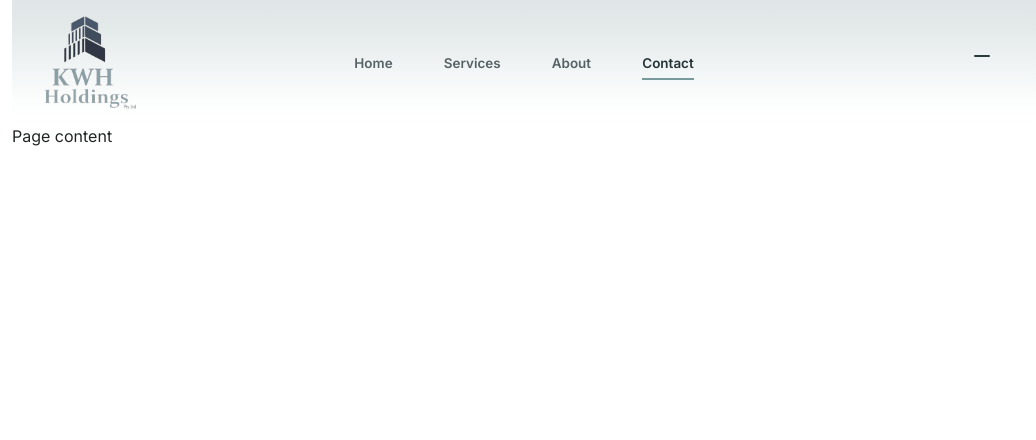
Test: navigation and home sections › retains the non-modal consultation dropdown on desktop
The image size is (1036, 440).
Click the button named "Open navigation menu": [982, 63] box [960,41,1004,85]
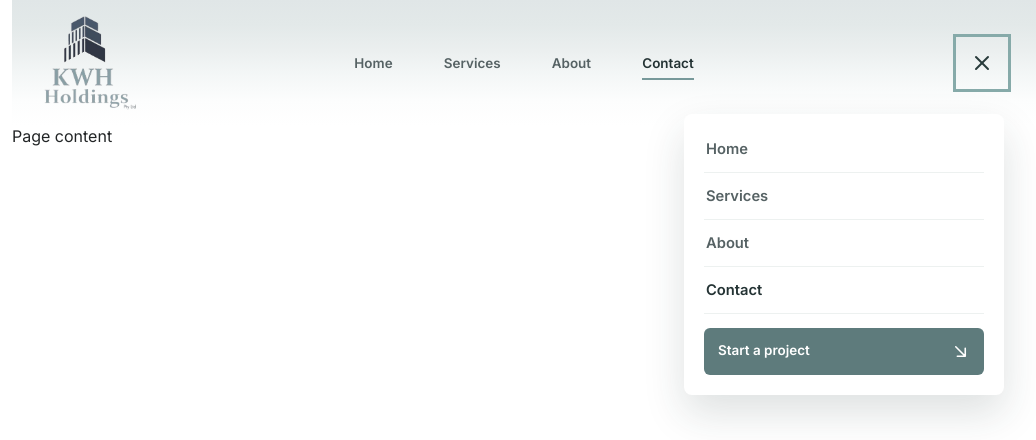
Press the mouse on the element that starts with "Home": [524, 73] box [12,0,1035,146]
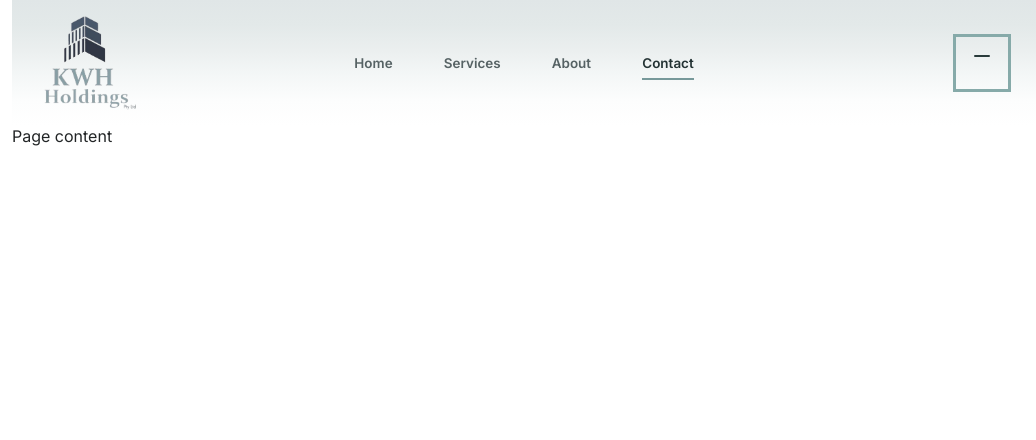
Expected: the button named "Open navigation menu" is collapsed, [960,41,1004,85]
